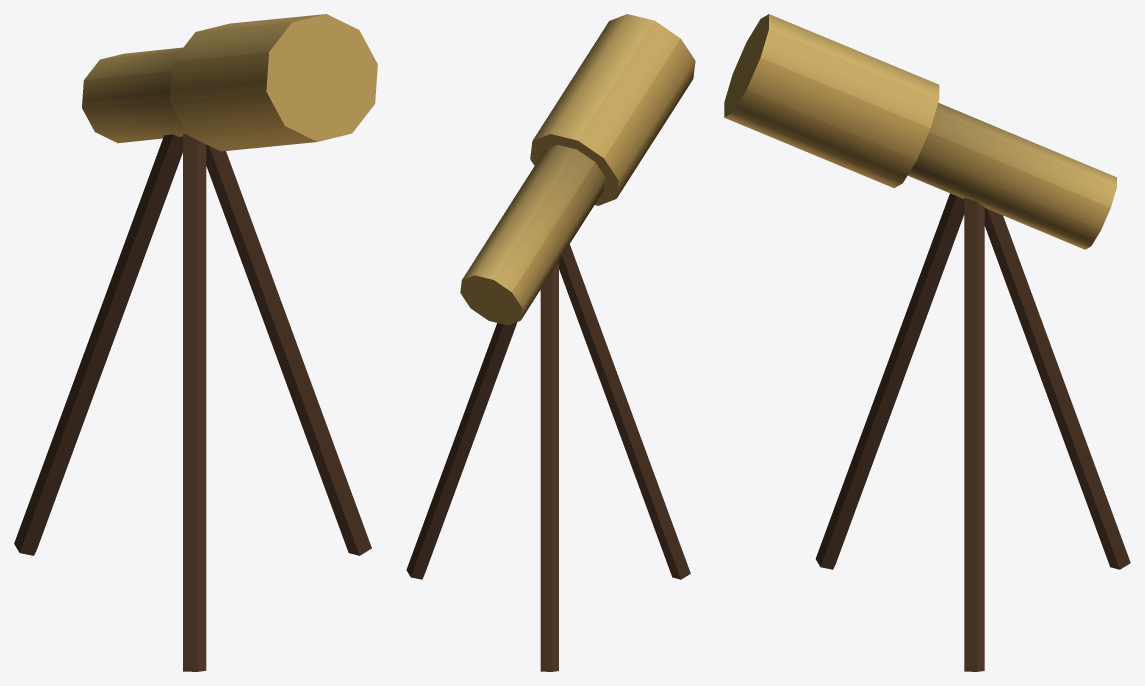
The model's file is Telescope.glb.
3 views of the same model, side by side, from view 1: azimuth 30°, elevation 25°; view 2: azimuth 150°, elevation 25°; view 3: azimuth 270°, elevation 25° (orthographic). The views are drawn at different scales.
Parts seen in each view (by area): view 1: Tripod, Brass; view 2: Brass, Tripod; view 3: Brass, Tripod.
Boxes of the visible parts, box(x1,y1,x2,y2) form: Tripod: box(14, 133, 371, 671); Brass: box(82, 14, 377, 151); Brass: box(460, 14, 695, 325); Tripod: box(406, 244, 690, 671); Brass: box(724, 14, 1116, 249); Tripod: box(815, 193, 1130, 671).
Bounding box in the file's own units: 1.95 × 4.52 × 2.87.
